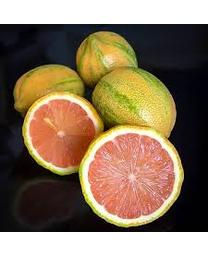lemon: (78, 124, 184, 228), (24, 90, 107, 176), (92, 64, 177, 145), (76, 31, 139, 87), (16, 65, 86, 113)
